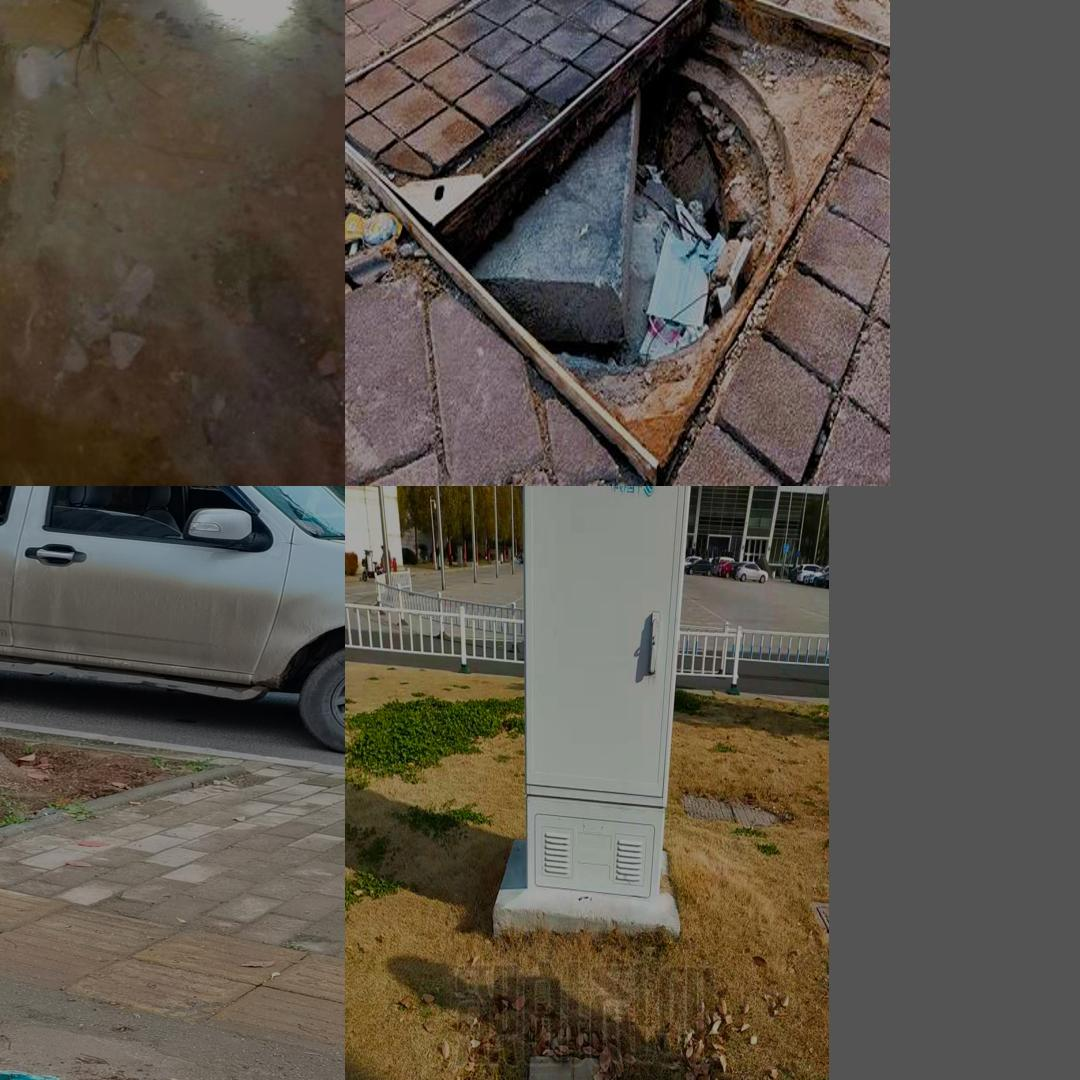lose: (357, 0, 879, 465), (0, 0, 55, 385), (457, 1037, 725, 1080), (0, 1068, 272, 1080)
